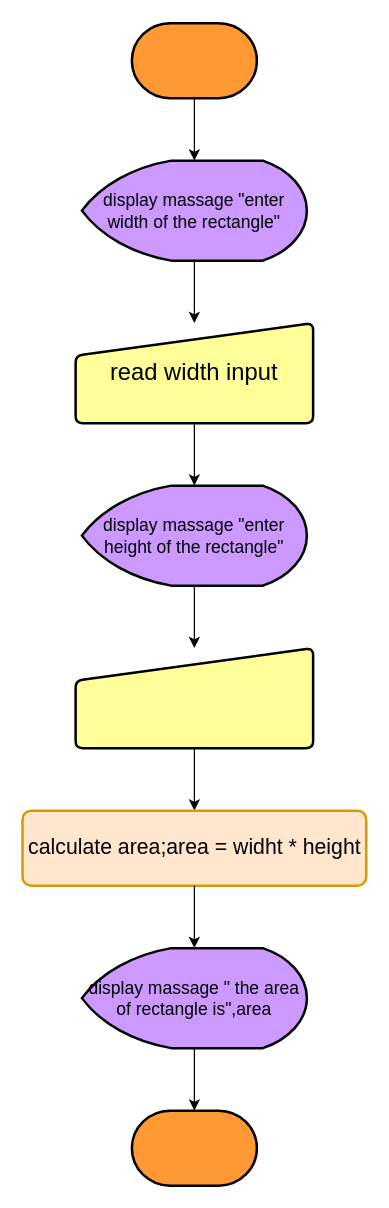
The diagram is 389 pixels wide and 1208 high, and some of its shapes have lost their labels. Here are the shapes that lost their labels. From the top down, the centre of each, then its label:
At [194,60]: "start".
At [194,697]: "read height input".
At [194,1147]: "end".
